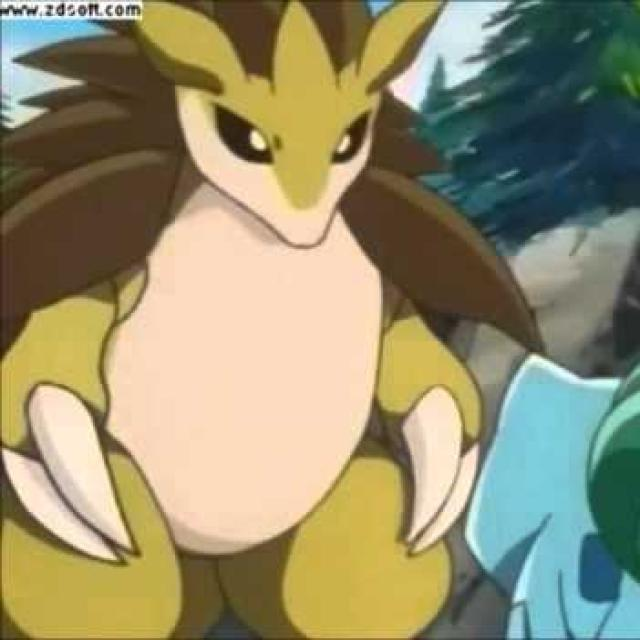Sandslash: (1, 13, 473, 640)
